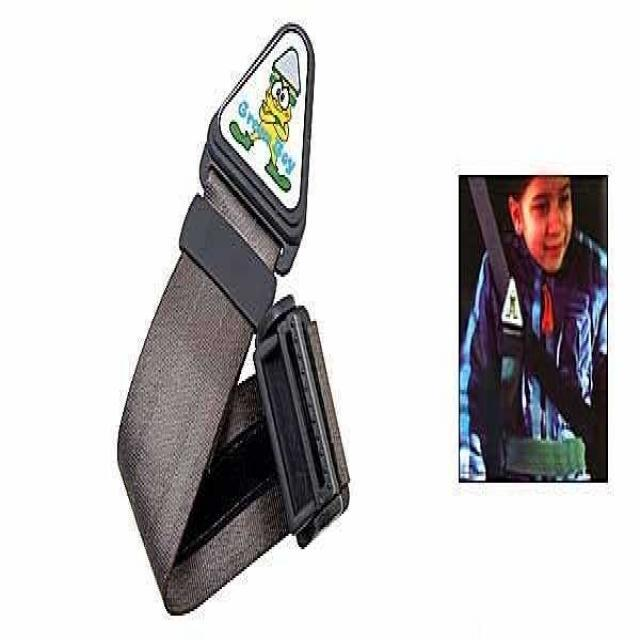seatbelt: (113, 102, 364, 622), (467, 184, 593, 443)
